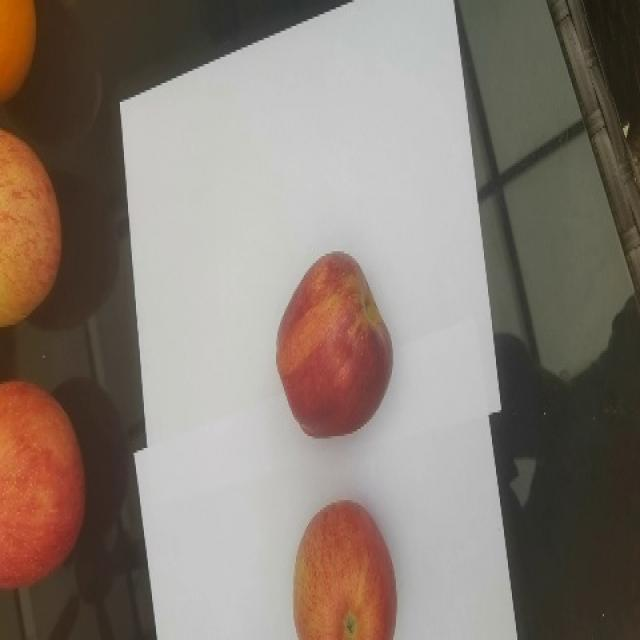Apple: (275, 250, 393, 438), (0, 379, 86, 590), (292, 499, 397, 639), (0, 128, 62, 327)
Orange: (0, 0, 37, 104)
